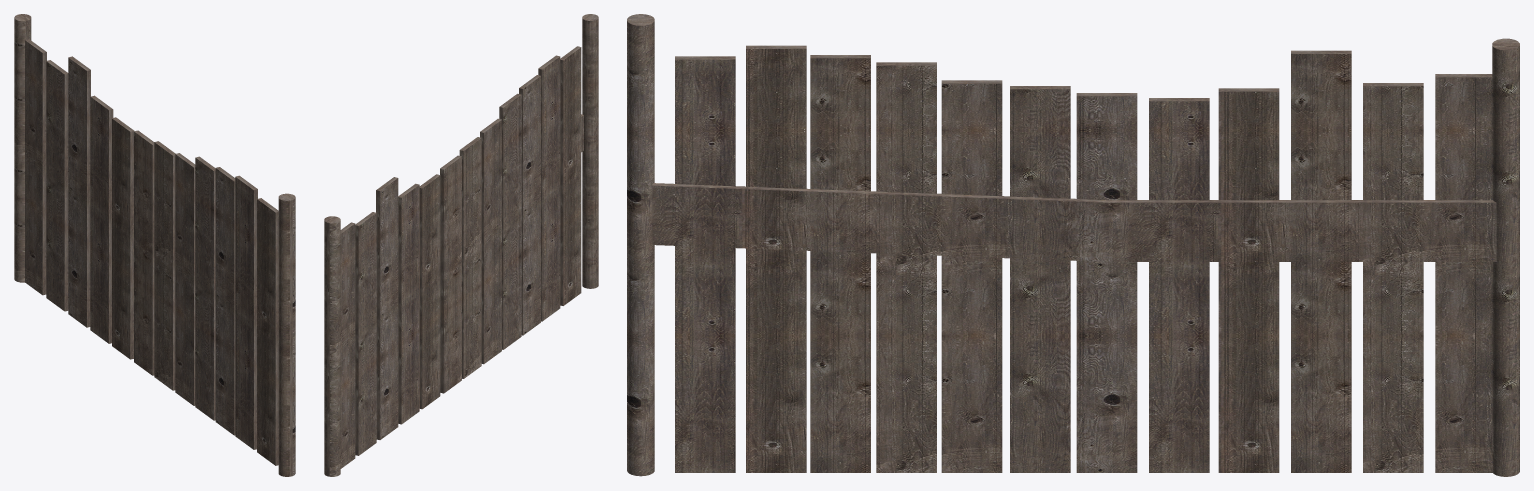
File: fence.fbx
3 views of the same model, side by side, from view 1: azimuth 30°, elevation 25°; view 2: azimuth 150°, elevation 25°; view 3: azimuth 270°, elevation 25° (orthographic). The views are drawn at different scales.
Visible parts, largest first — view 1: Wooden_Fence5; view 2: Wooden_Fence5; view 3: Wooden_Fence5.
Boxes of the visible parts, <box> form: Wooden_Fence5: <box>14,14,295,476</box>; Wooden_Fence5: <box>324,14,598,476</box>; Wooden_Fence5: <box>627,14,1519,476</box>.
Bounding box in the file's own units: 0.4086 × 6.82 × 12.26.
Materials: 1 (1 with a texture image).
